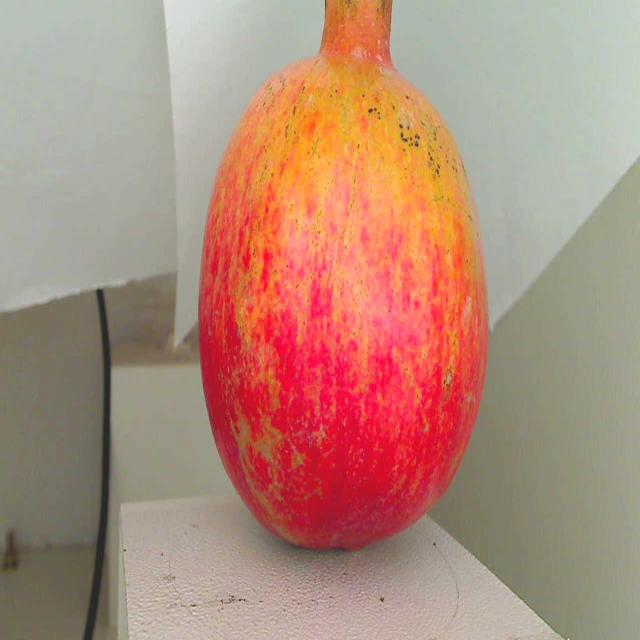pomegranate: (190, 0, 499, 563)
